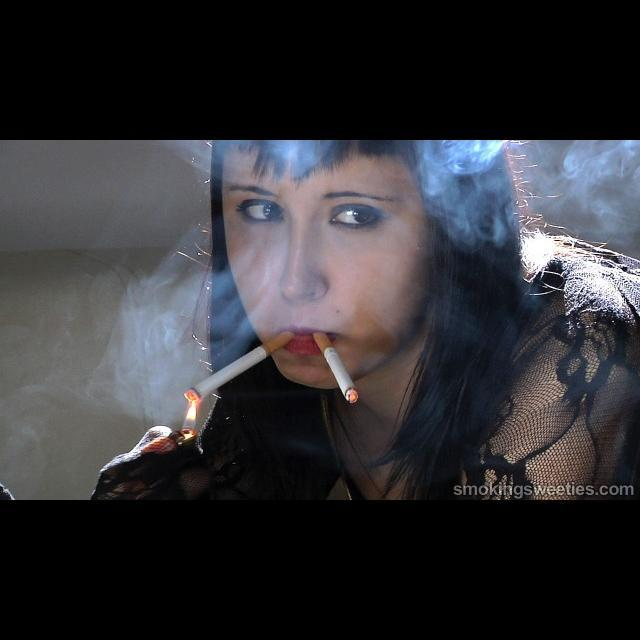rokok: (172, 325, 296, 405), (308, 324, 364, 408)
